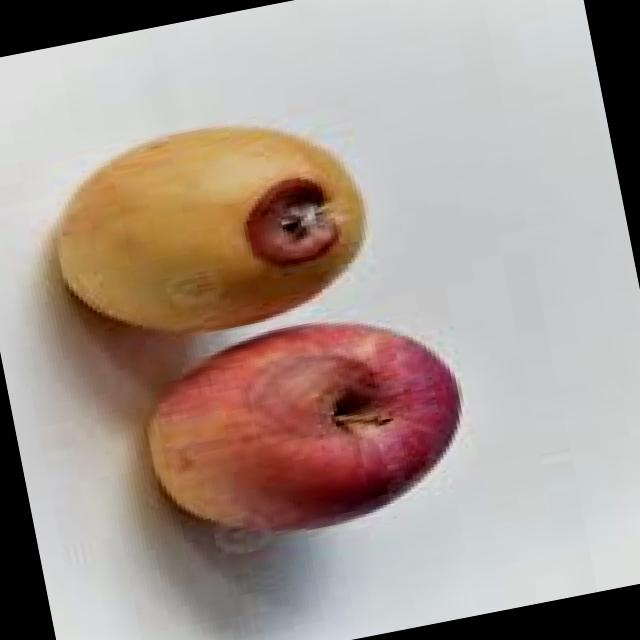Rotten Apple: (131, 300, 483, 556), (37, 100, 381, 356)
